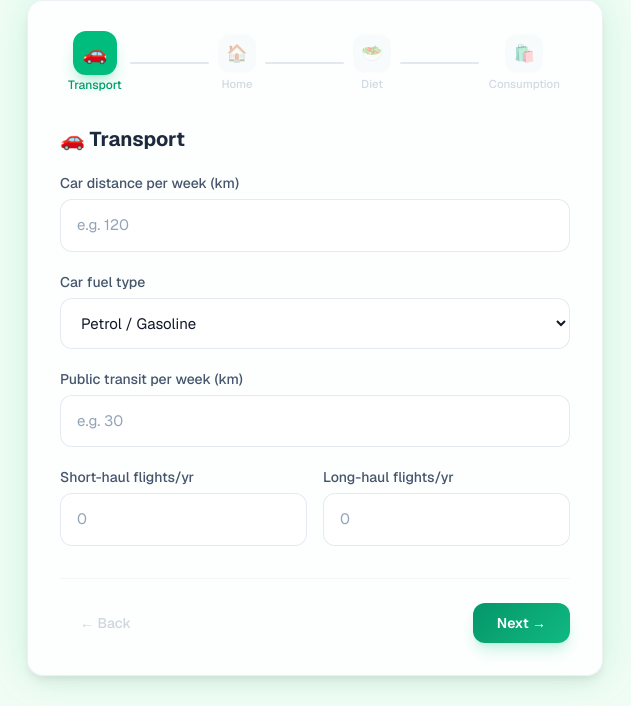
Scenario: CarbonForm › navigates to step 2 when Next is clicked
Click the button "Next →": [521, 622] box [473,602,570,642]
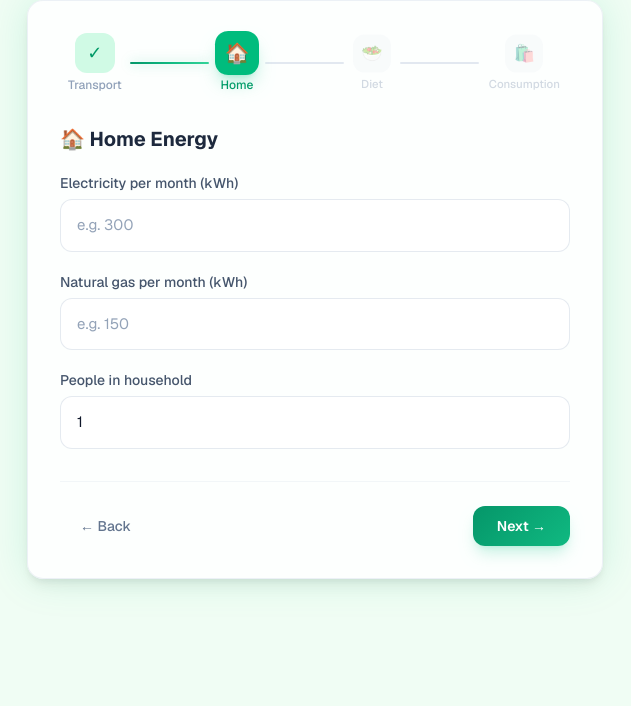
Now the text "🏠 Home Energy" is shown, box [60,125,218,153]
